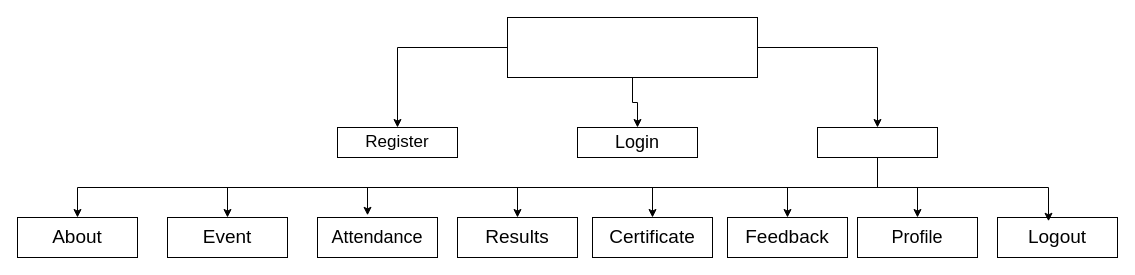
Some shapes in this 1135 by 275 pixel diagram are drawn without their labels. Here are the shapes that lost their labels. From the top down, the centre of each, then its label:
At point 632,47: "STUDENTHUB PORTAL".
At point 877,142: "Dashboard".
